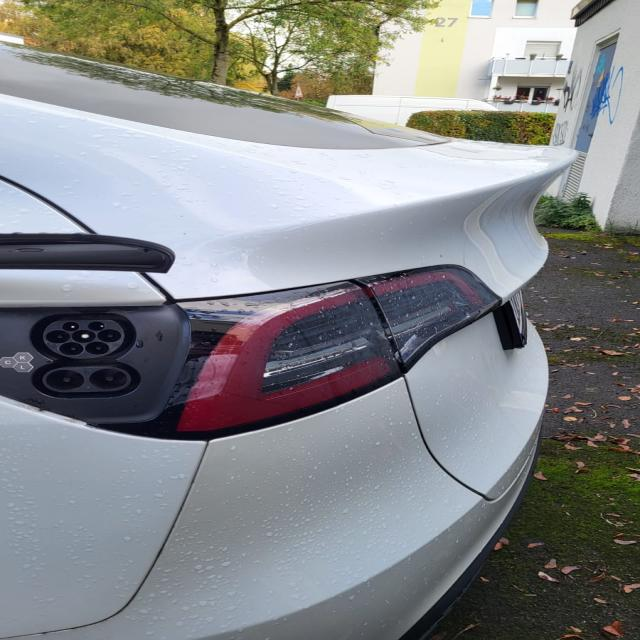inlet: (43, 320, 124, 359)
inlet-above-left: (62, 322, 79, 331)
inlet-above-right: (88, 321, 104, 331)
inlet-below-left: (59, 342, 83, 355)
inlet-below-right: (85, 342, 109, 355)
inlet-circle: (72, 330, 95, 343)
inlet-circle-left: (46, 330, 70, 344)
inlet-circle-right: (97, 329, 121, 343)
inlet-minus: (90, 369, 127, 389)
inlet-plus: (46, 370, 84, 390)
